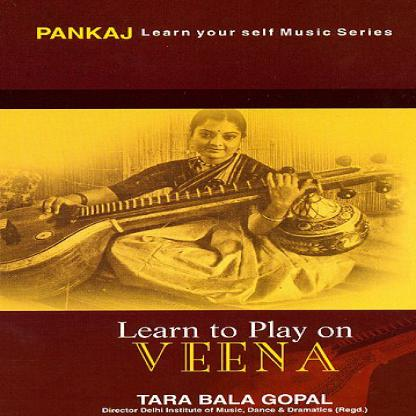Veena: (4, 163, 389, 275)
